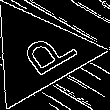P_SW: (4, 24, 73, 83)
